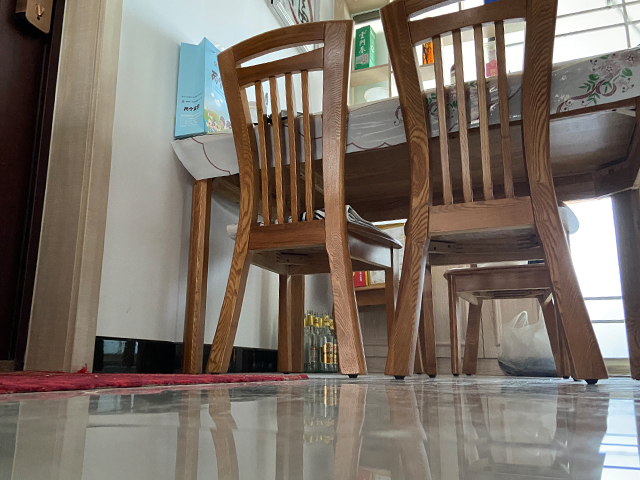carpet: (1, 367, 308, 395)
stool: (378, 1, 610, 385), (204, 18, 403, 379)
table: (169, 43, 640, 382)
